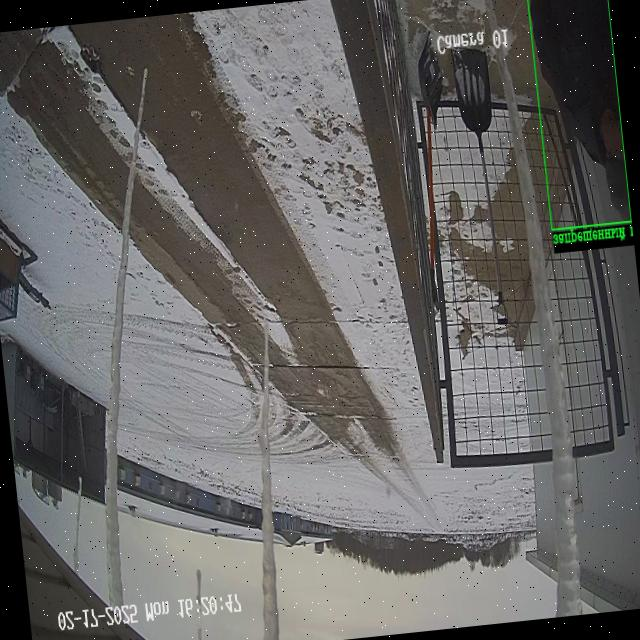Person: (529, 0, 630, 217)
